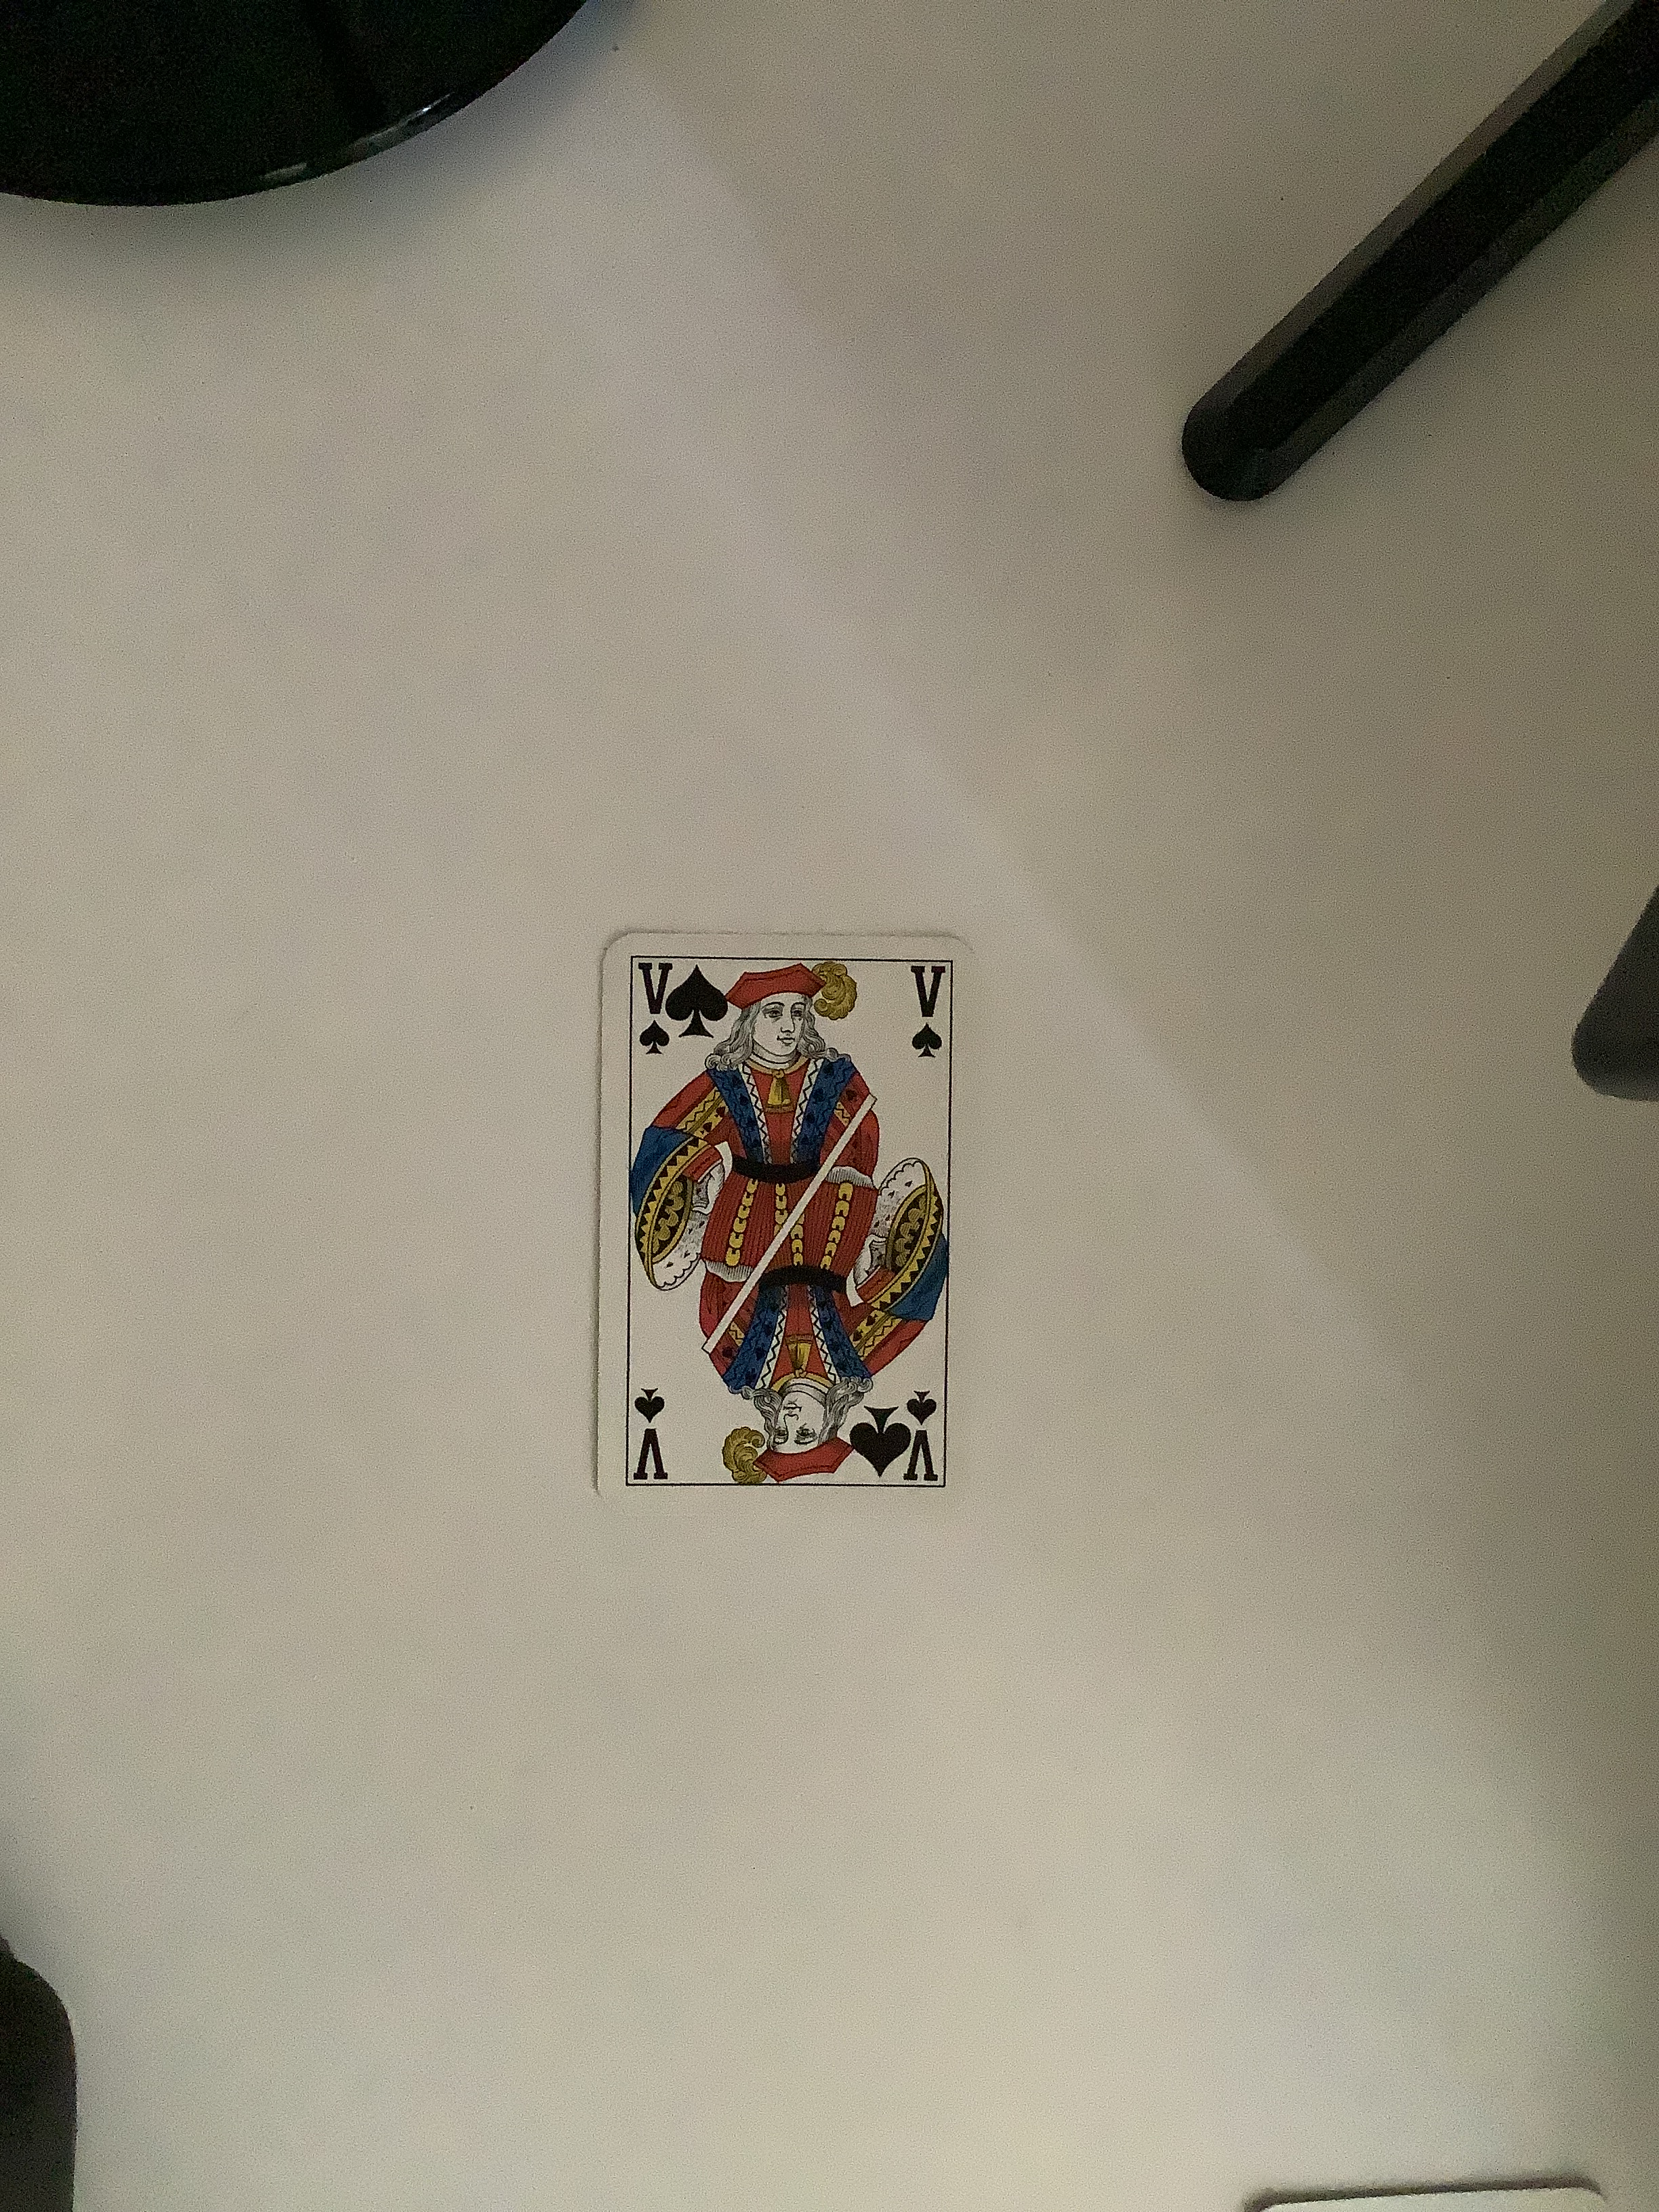♠ J: (580, 918, 992, 1526)
